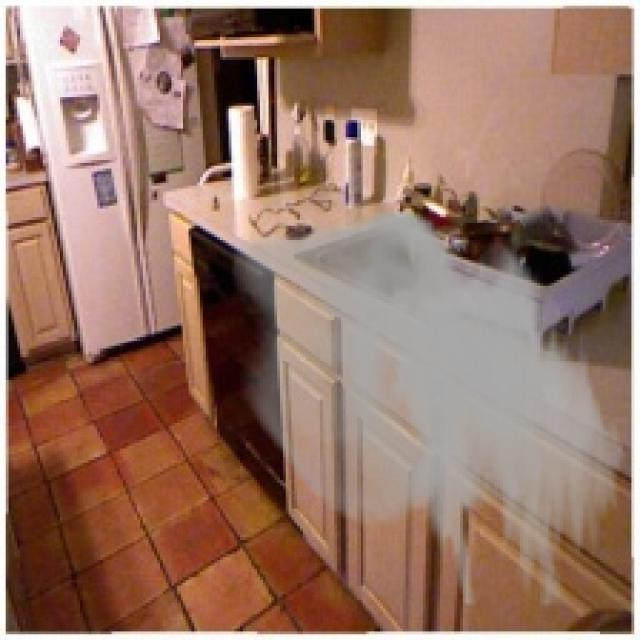Smoke: (232, 208, 628, 608)
